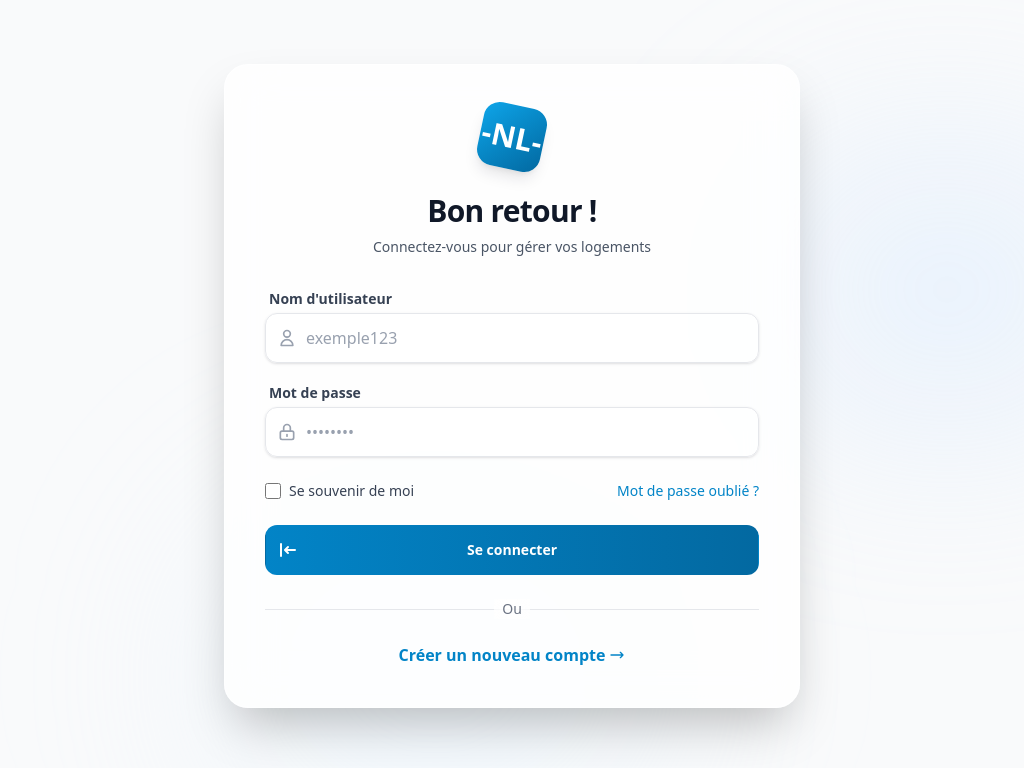
Test case: Login Component › displays error message on failed login
This screenshot has width=1024, height=768.
In the field labelled "Nom d'utilisateur": (512, 338) 265,313 -> 759,363, type "wronguser"
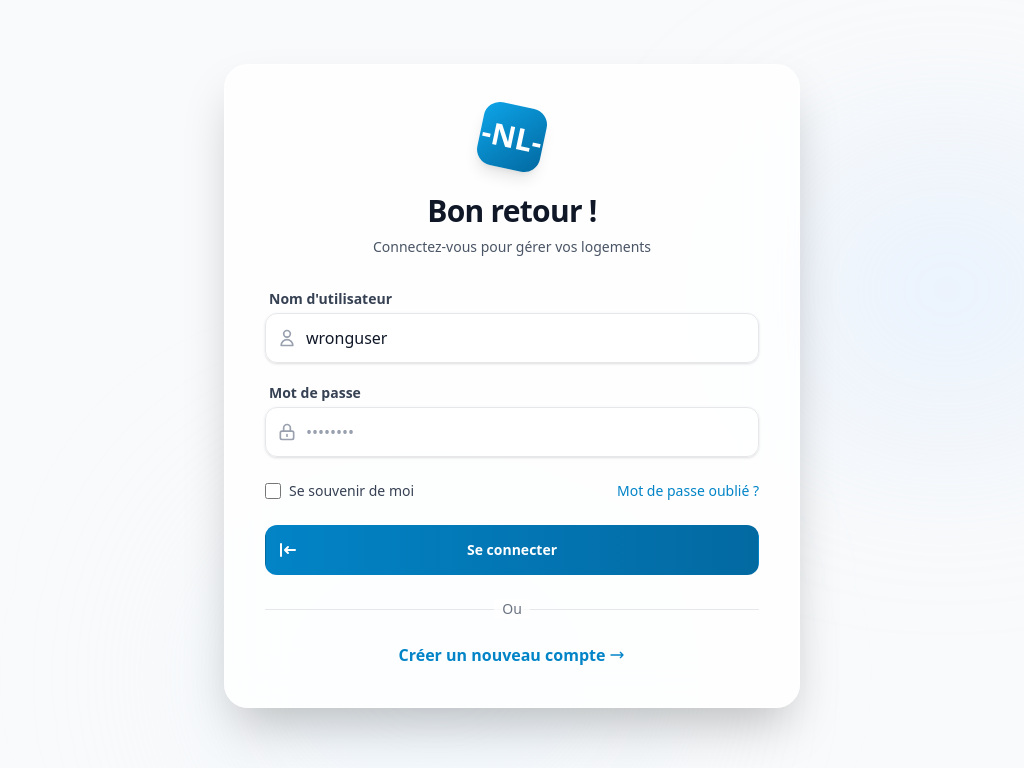
In the password field labelled "Mot de passe": (512, 432) 265,407 -> 759,457, type "wrongpass"
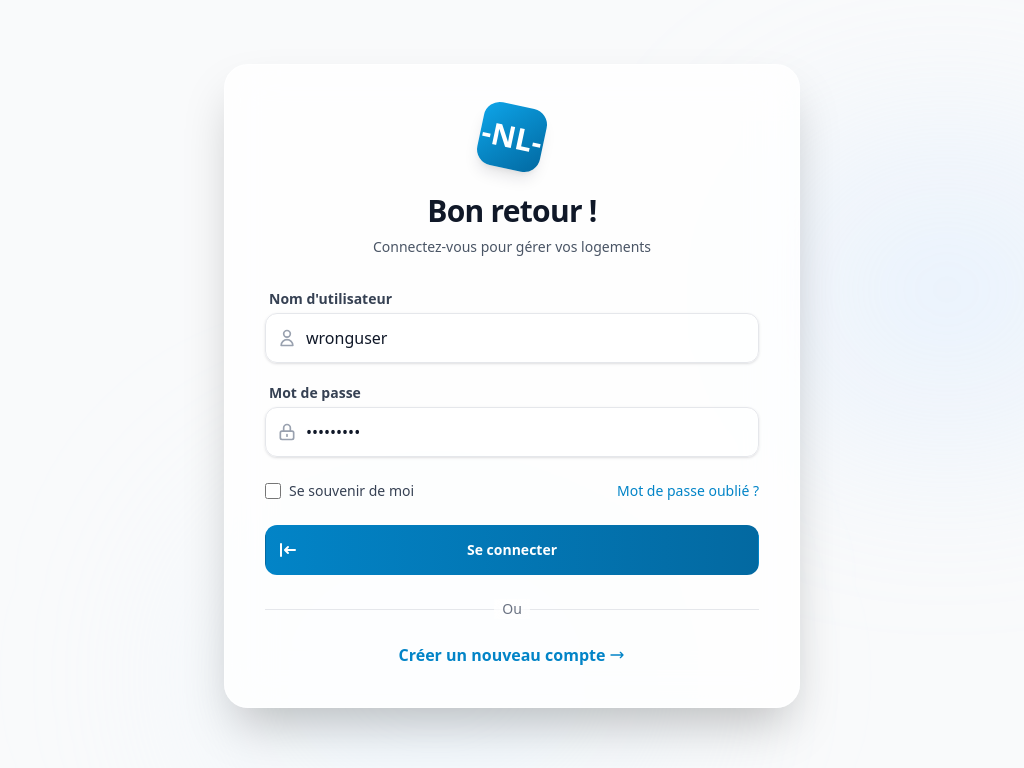
Click the button "Se connecter": (512, 550) 265,525 -> 759,575
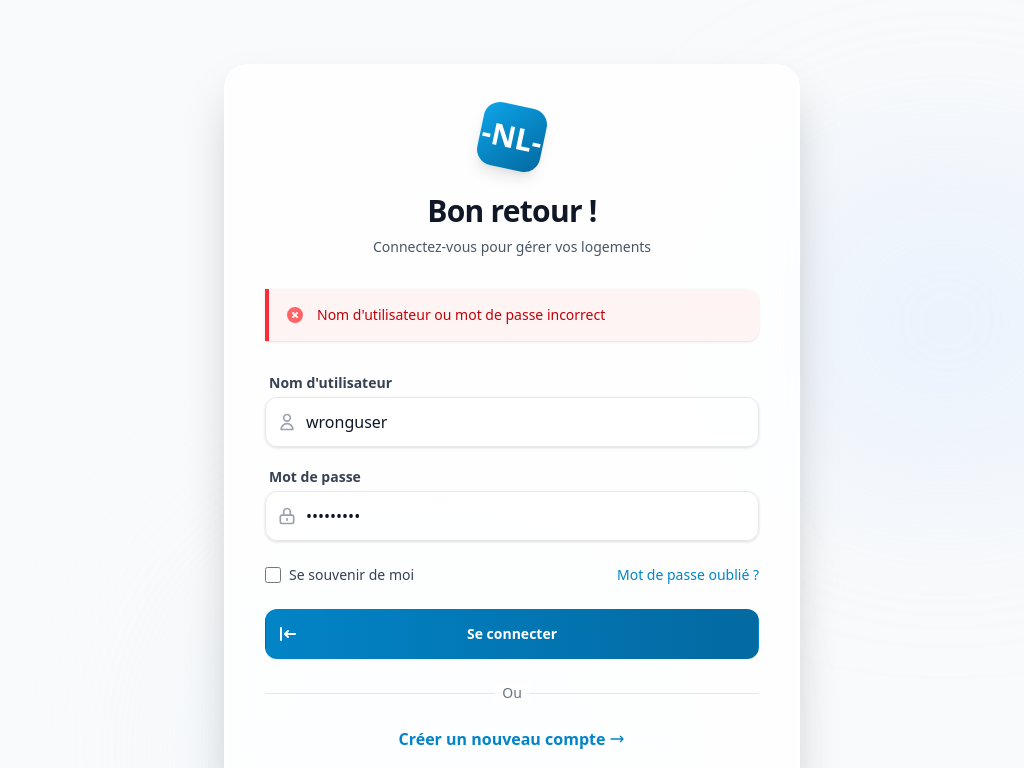
Expected: the text "Nom d'utilisateur ou mot de passe incorrect" is shown, 317,305 -> 605,325
